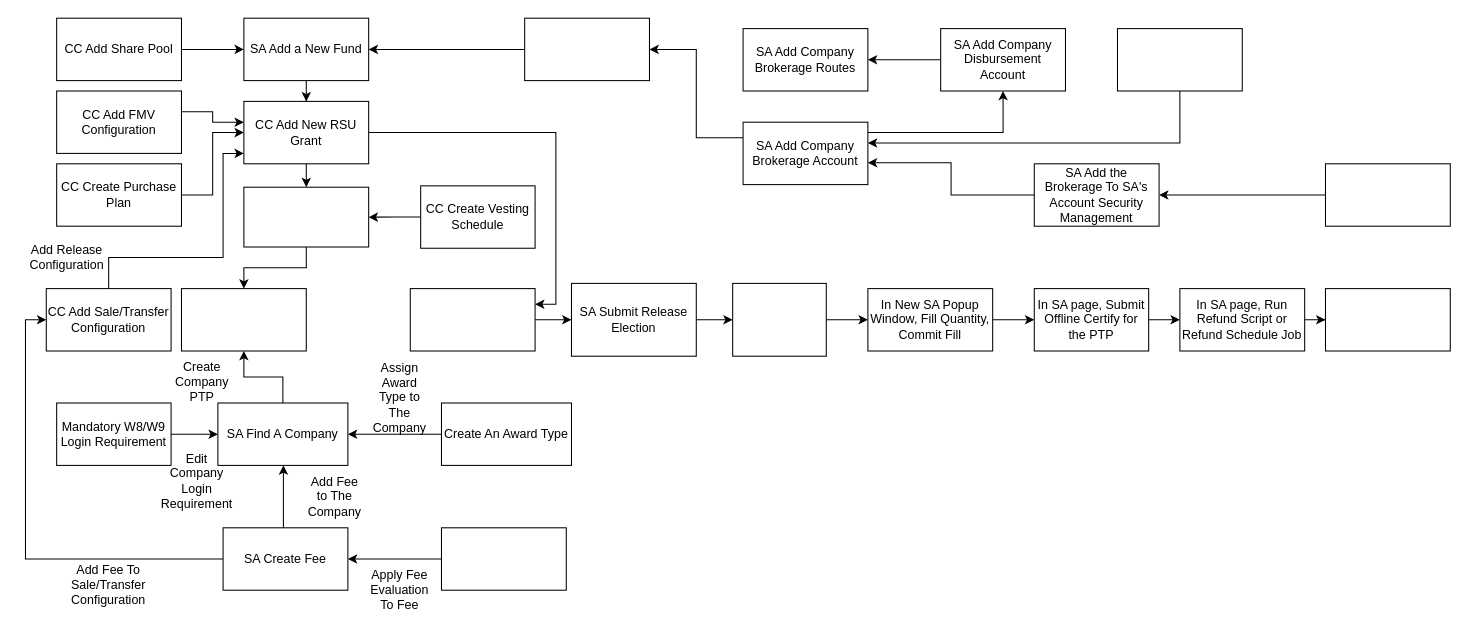
Some shapes in this 1468 by 630 pixel diagram are drawn without their labels. Here are the shapes that lost their labels. From the top down, the centre of each, then its label:
point 586,49: SA Add Brokerage to Company Fund ( Award)
point 1179,59: SA Create Bank Reference
point 1387,194: SA Add Brokerage (Optional Add Brokerage Office)
point 306,216: CC Add New Employee Grant To PTPS
point 243,319: CC Create PTPs
point 472,319: CC Add Release Event For RSU Grant
point 779,319: SA Process Election
point 1387,319: In SA page, Observe the Refund
point 503,558: SA Create Fee Evaluation
